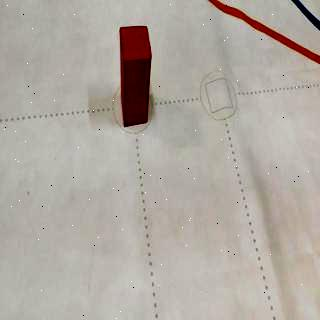redbox: (119, 24, 152, 126)
